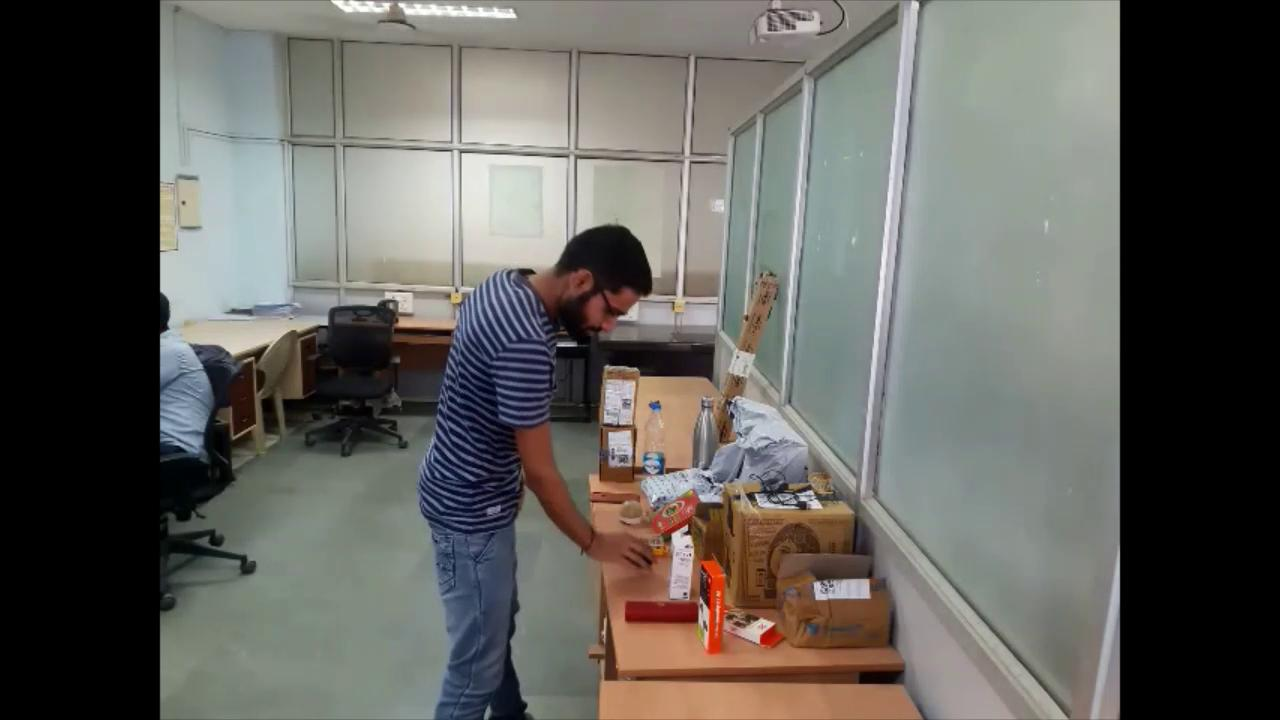Normal: (415, 218, 661, 719)
